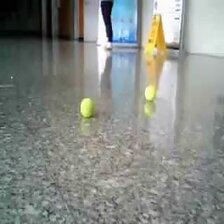tennis: (80, 98, 96, 118), (145, 85, 156, 101)
